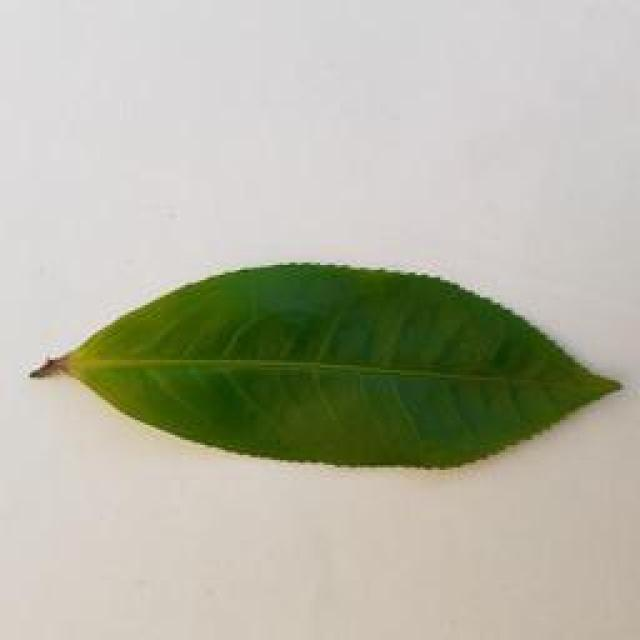Healthy: (39, 255, 638, 474)
